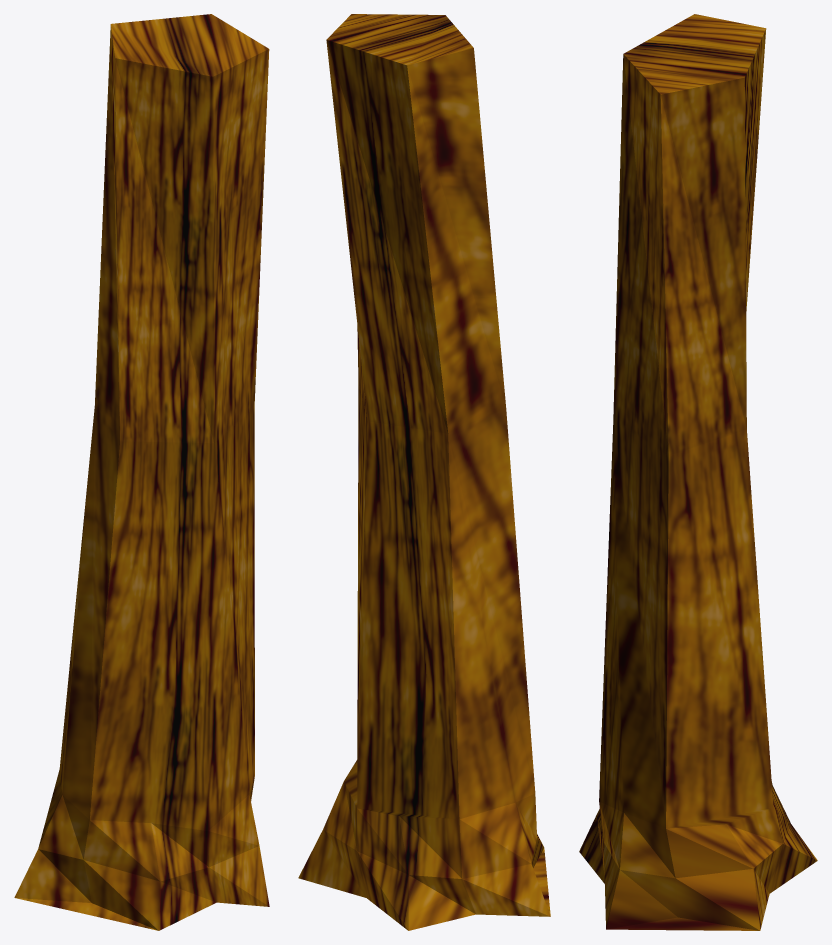
Rendered from MTree_5.gltf.
The picture shows the model from 3 angles, left to right: view 1: azimuth 30°, elevation 25°; view 2: azimuth 150°, elevation 25°; view 3: azimuth 270°, elevation 25°; orthographic projection.
Parts seen in each view (by area): view 1: MTree_5; view 2: MTree_5; view 3: MTree_5.
Part boxes in pixels (box(x1,y1,x2,y2)): MTree_5: box(14, 14, 269, 930); MTree_5: box(298, 14, 550, 930); MTree_5: box(579, 14, 817, 930).
Bounding box in the file's own units: 4.95 × 17.42 × 4.38.
Materials: 1 (1 with a texture image).
